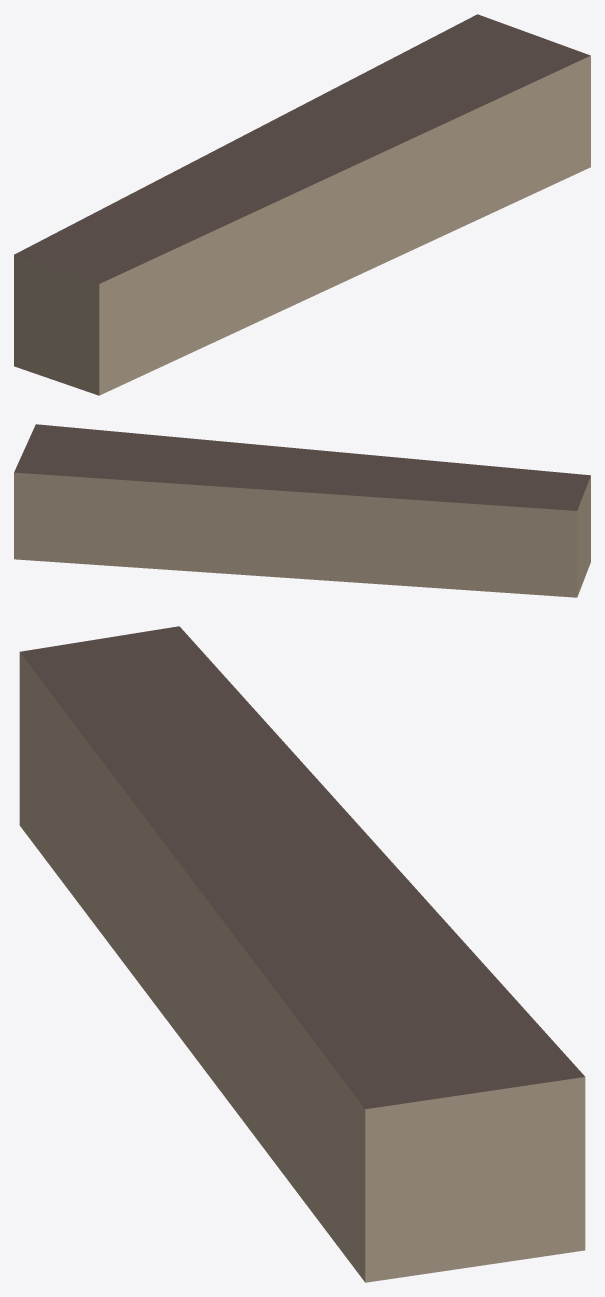
3 renders of one model, top to bottom at view 1: azimuth 30°, elevation 25°; view 2: azimuth 150°, elevation 25°; view 3: azimuth 270°, elevation 25°, orthographic. The views are drawn at different scales.
Parts seen in each view (by area): view 1: HP-w1512914137; view 2: HP-w1512914137; view 3: HP-w1512914137.
Part boxes in pixels (left/top/right/bottom): HP-w1512914137: left=14, top=14, right=590, bottom=395; HP-w1512914137: left=14, top=424, right=590, bottom=597; HP-w1512914137: left=19, top=626, right=585, bottom=1282.
Size of the model in its own units: 53.73 by 9 by 26.6.
